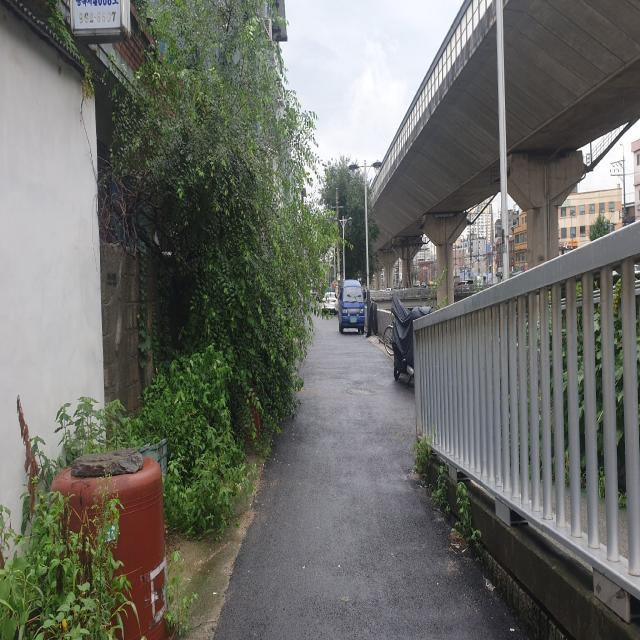car: (338, 279, 365, 334), (321, 292, 338, 314)
motorbike: (391, 296, 437, 388)
